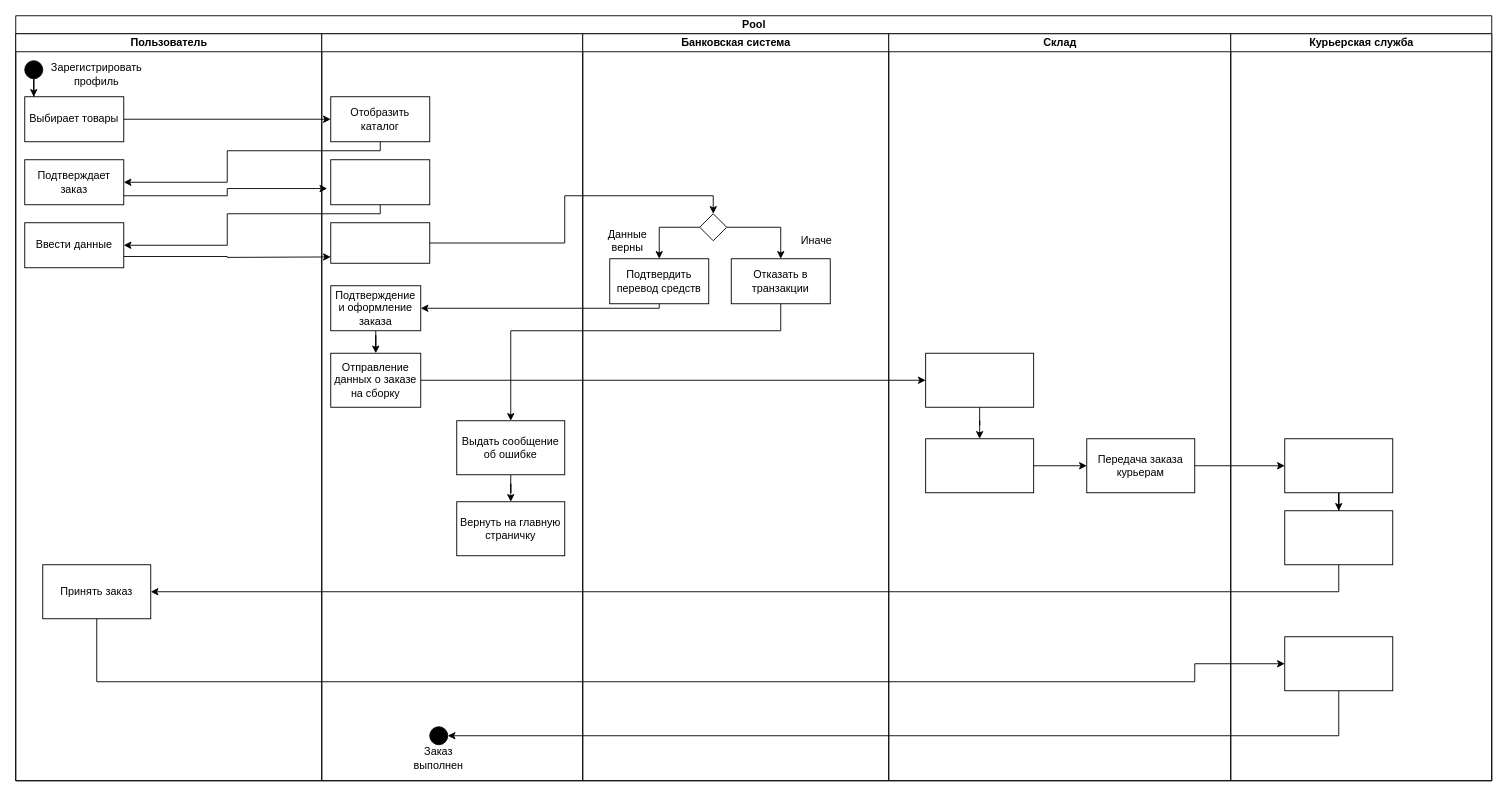
Some shapes in this 1508 by 797 pixel diagram are drawn without their labels. The shapes that lost their labels are listed below. From the top down, each one's box as (x1, y1, x2, y2) in pixels, then its label:
(330, 159, 430, 205): Запросить данные банковской системы и сумму пополнения
(330, 222, 430, 263): Запросить пополнение средств
(925, 352, 1034, 407): Сборка заказа
(321, 33, 583, 781): Сервис доставки продуктов и медикаментов
(925, 438, 1034, 493): Проверка целостности заказа
(1284, 438, 1393, 493): Принять заказ на доставку
(1284, 510, 1393, 565): Доставить заказ
(1284, 636, 1393, 691): Подтверждение доставки с помощью фото
